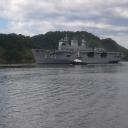Portanaves: (30, 33, 127, 67)
